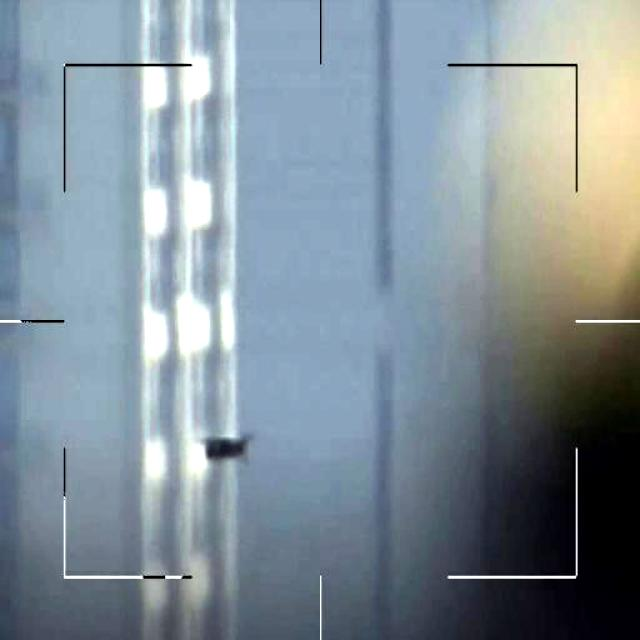bird: (202, 430, 254, 465)
